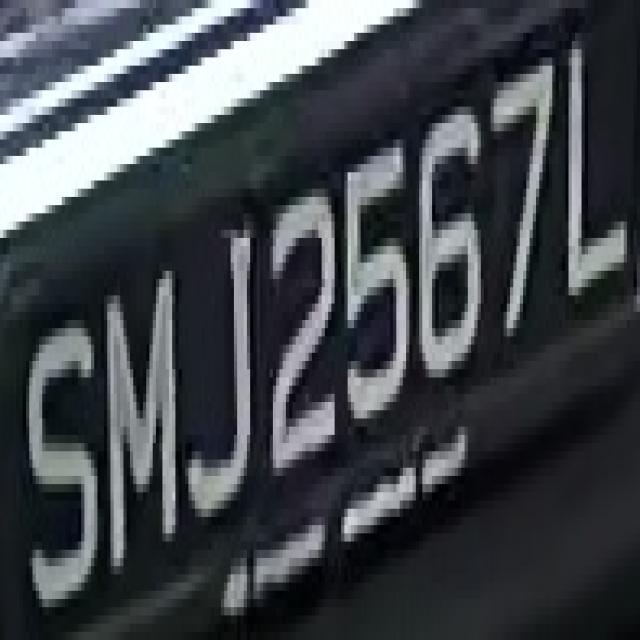2: (257, 189, 341, 492)
5: (334, 106, 416, 426)
6: (410, 90, 490, 394)
7: (474, 49, 556, 394)
J: (179, 189, 263, 525)
L: (559, 16, 637, 312)
M: (94, 263, 188, 566)
S: (20, 304, 107, 599)
